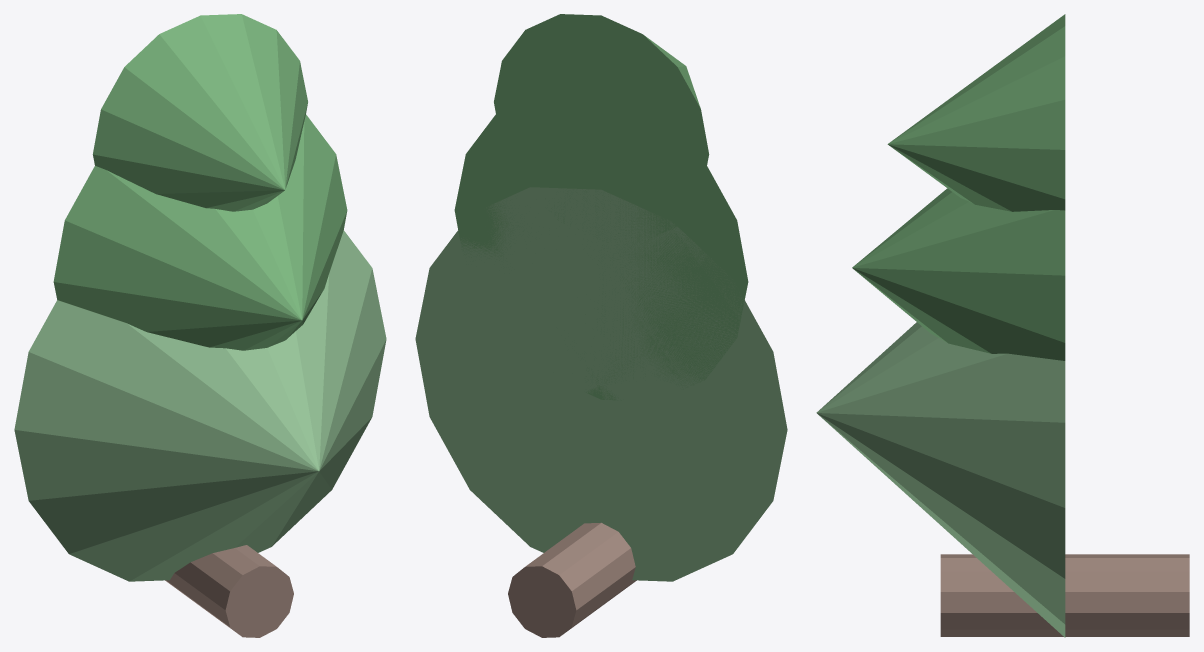
Rendered from tree_pine.glb.
3 views of the same model, side by side, from view 1: azimuth 30°, elevation 25°; view 2: azimuth 150°, elevation 25°; view 3: azimuth 270°, elevation 25° (orthographic). The views are drawn at different scales.
Parts seen in each view (by area): view 1: foliage_0, foliage_1, foliage_2, trunk; view 2: foliage_0, foliage_1, foliage_2, trunk; view 3: foliage_0, foliage_1, foliage_2, trunk.
Part boxes in pixels (<box>): foliage_0: <box>14,230,386,581</box>; foliage_1: <box>53,114,347,350</box>; foliage_2: <box>92,14,307,211</box>; trunk: <box>165,545,293,637</box>; foliage_0: <box>415,187,787,581</box>; foliage_1: <box>454,90,748,400</box>; foliage_2: <box>494,14,709,241</box>; trunk: <box>508,522,636,637</box>; foliage_0: <box>816,322,1065,637</box>; foliage_1: <box>852,188,1065,360</box>; foliage_2: <box>887,14,1065,211</box>; trunk: <box>940,554,1189,636</box>.
Size of the model in its own units: 0.76 by 1.13 by 0.63.
